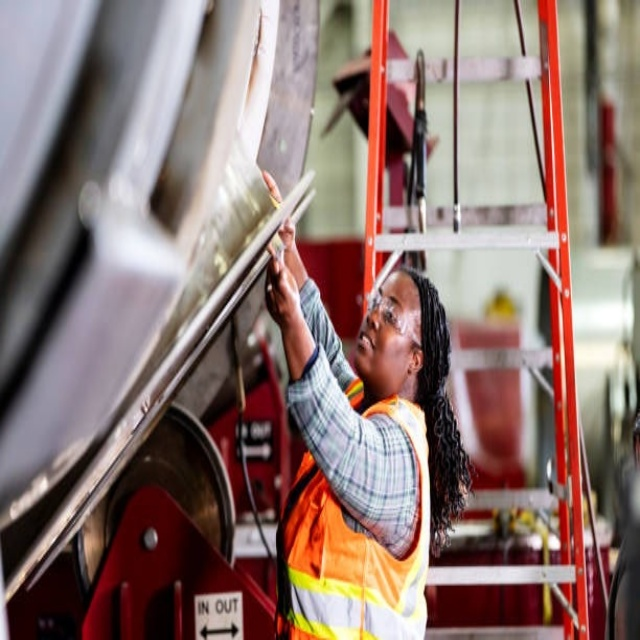Gafas: (366, 292, 421, 344)
Sin_mascara: (355, 323, 381, 368)
